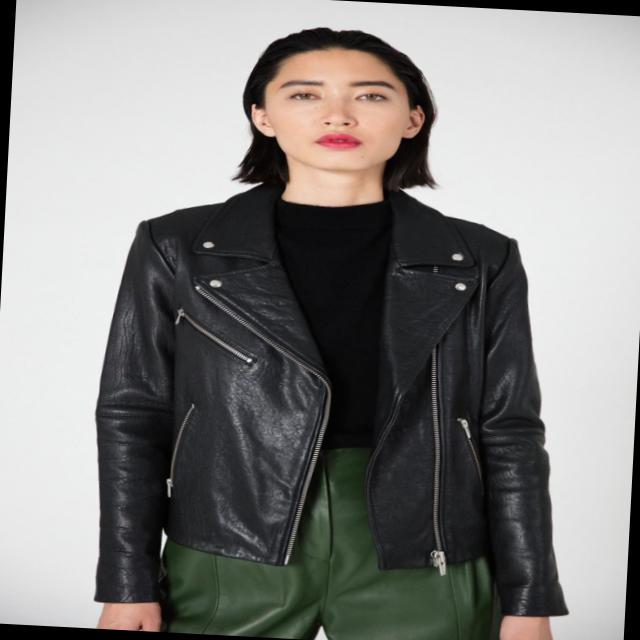Jacket: (73, 161, 604, 629)
